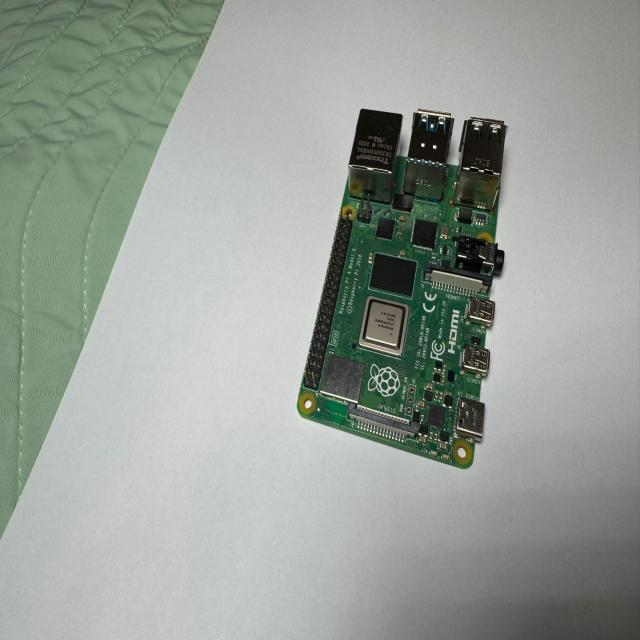CPU: (359, 295, 411, 363)
Ethernet: (347, 108, 402, 203)
GPIO: (302, 208, 352, 390)
RAM: (368, 253, 420, 302)
Raspberry: (295, 109, 507, 472)
micro-hdmi: (460, 346, 492, 377), (467, 296, 497, 327)
